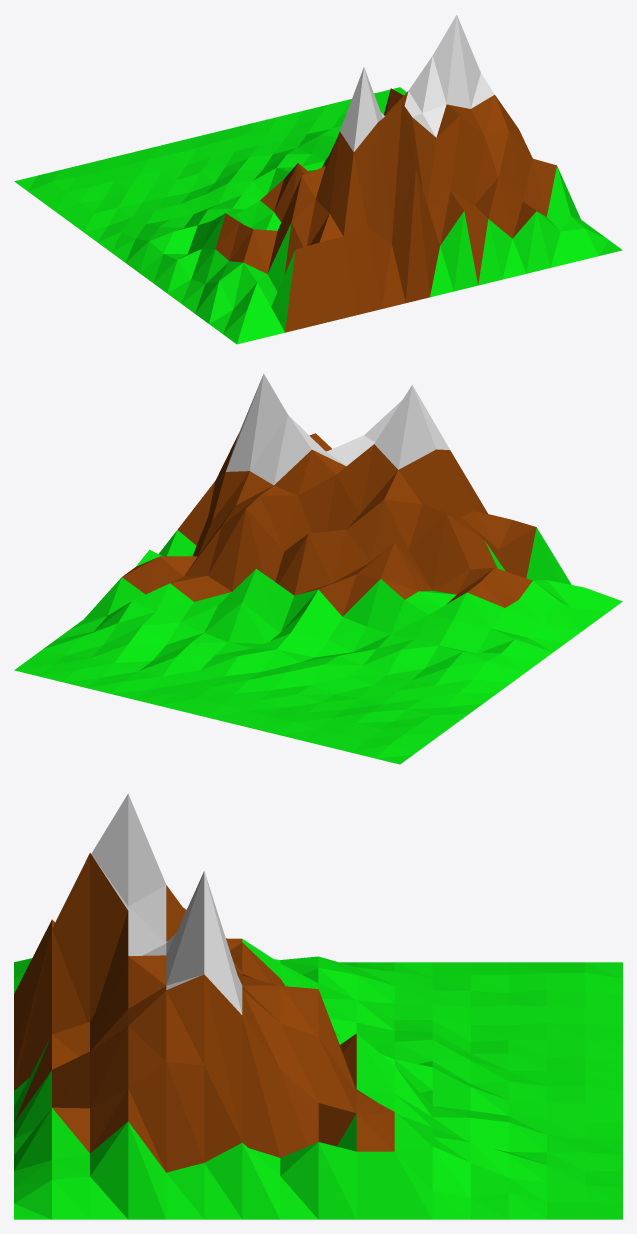
Rendered from MountainModel.fbx.
The picture shows the model from 3 angles, top to bottom: view 1: azimuth 30°, elevation 25°; view 2: azimuth 150°, elevation 25°; view 3: azimuth 270°, elevation 25°; orthographic projection. The views are drawn at different scales.
Parts seen in each view (by area): view 1: Mountains; view 2: Mountains; view 3: Mountains.
Part boxes in pixels (x1,y1,x2,y2): Mountains: [14, 15, 622, 344]; Mountains: [14, 373, 622, 764]; Mountains: [14, 793, 622, 1219].
Bounding box in the file's own units: 60 × 30.95 × 60.
